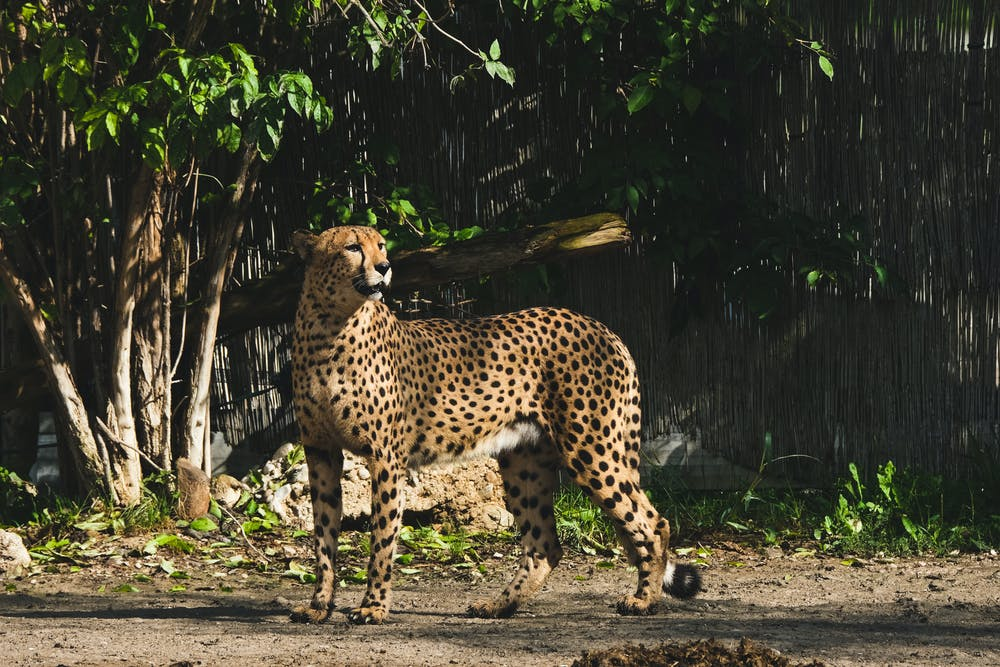cheetah: (282, 216, 396, 306)
